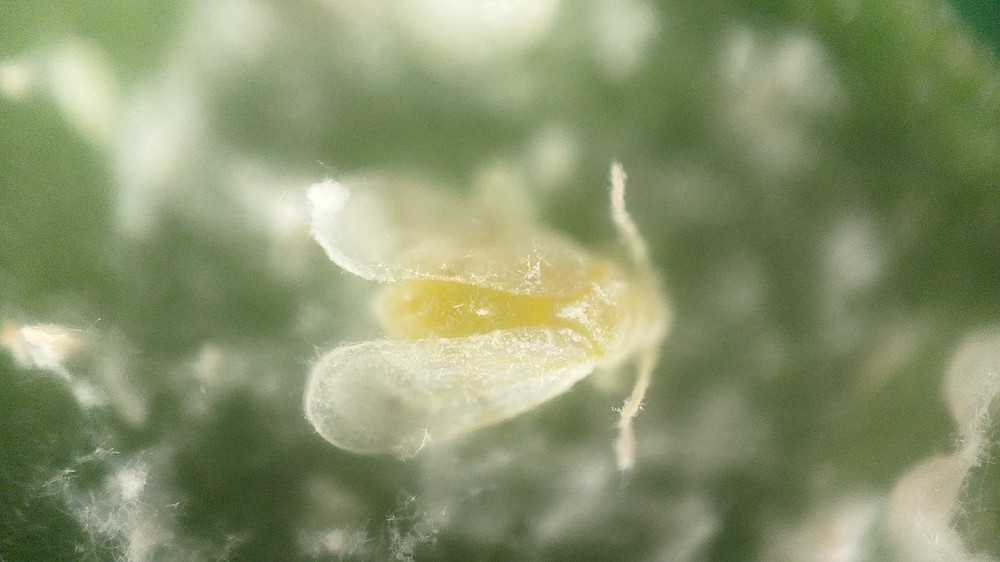Mosca Blanca: (285, 138, 681, 491)
